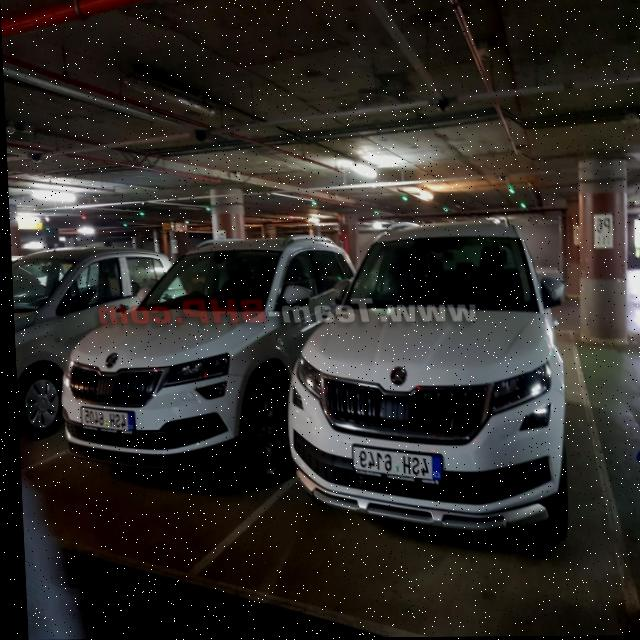plate: (342, 442, 444, 492), (74, 401, 136, 440)
